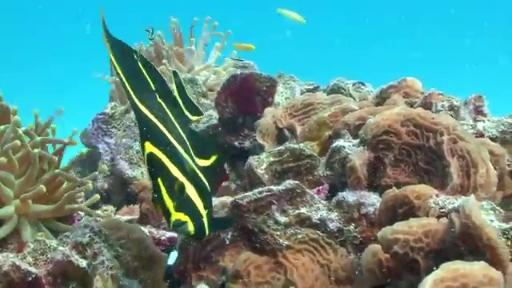Fish: (102, 13, 231, 239)
